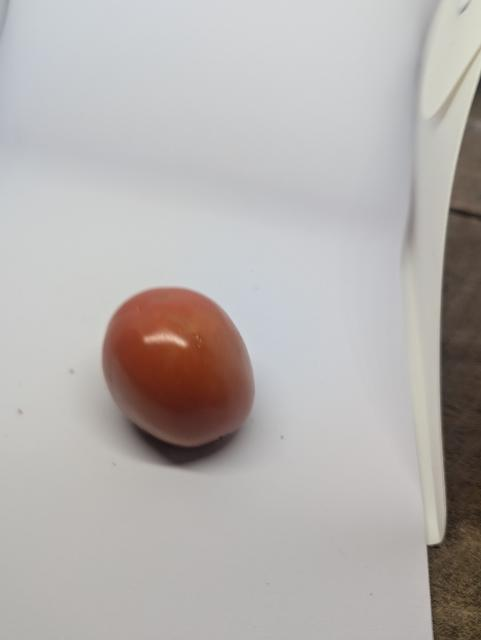red: (95, 281, 260, 451)
